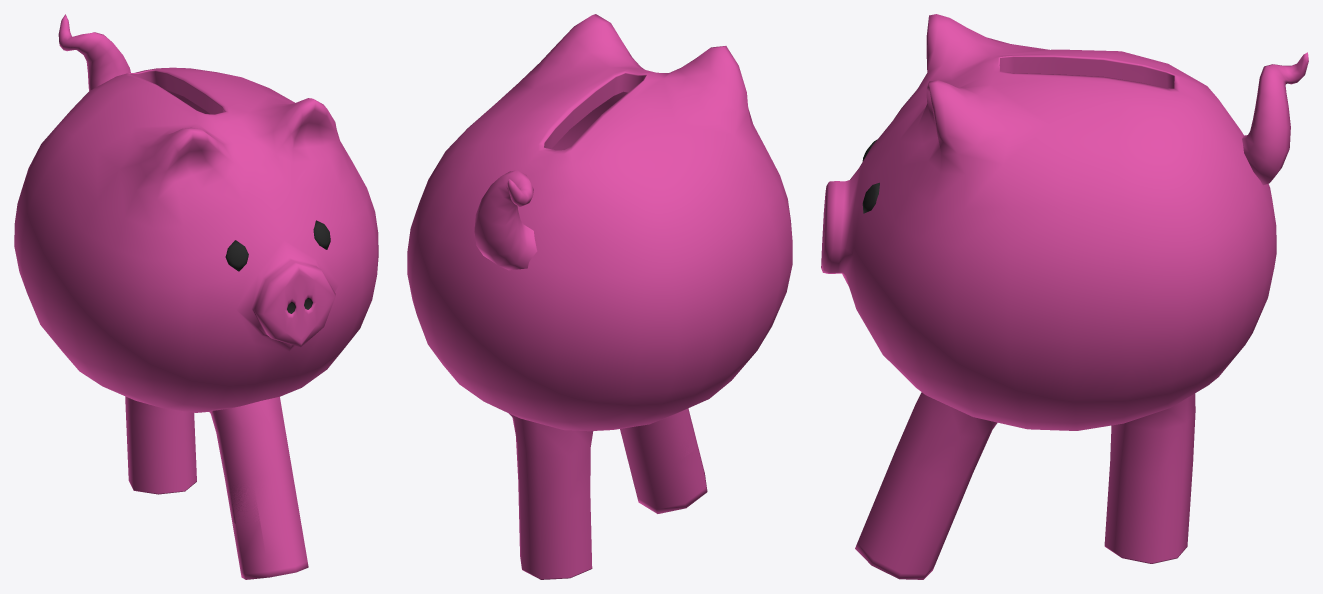
File: Cerdo.fbx
3 views of the same model, side by side, from view 1: azimuth 30°, elevation 25°; view 2: azimuth 150°, elevation 25°; view 3: azimuth 270°, elevation 25° (orthographic). The views are drawn at different scales.
Visible parts, largest first — view 1: Cube; view 2: Cube; view 3: Cube.
Part boxes in pixels (<box>): Cube: <box>14,14,378,579</box>; Cube: <box>407,14,792,579</box>; Cube: <box>821,14,1308,579</box>.
Bounding box in the file's own units: 551 × 811 × 688.
